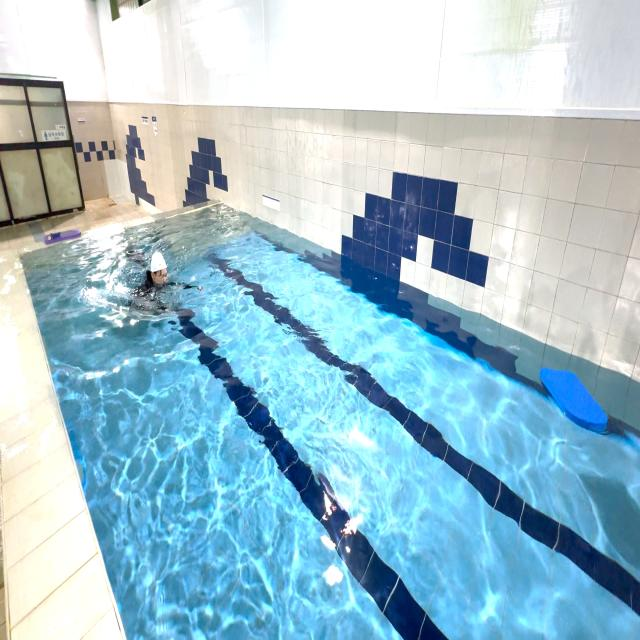Drowning: (122, 232, 203, 321)
